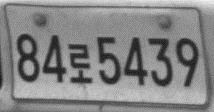3: (147, 37, 173, 86)
4: (122, 35, 149, 86), (41, 34, 67, 82)
5: (96, 36, 121, 85)
8: (15, 33, 40, 82)
9: (175, 36, 199, 87)
로: (68, 43, 94, 83)
